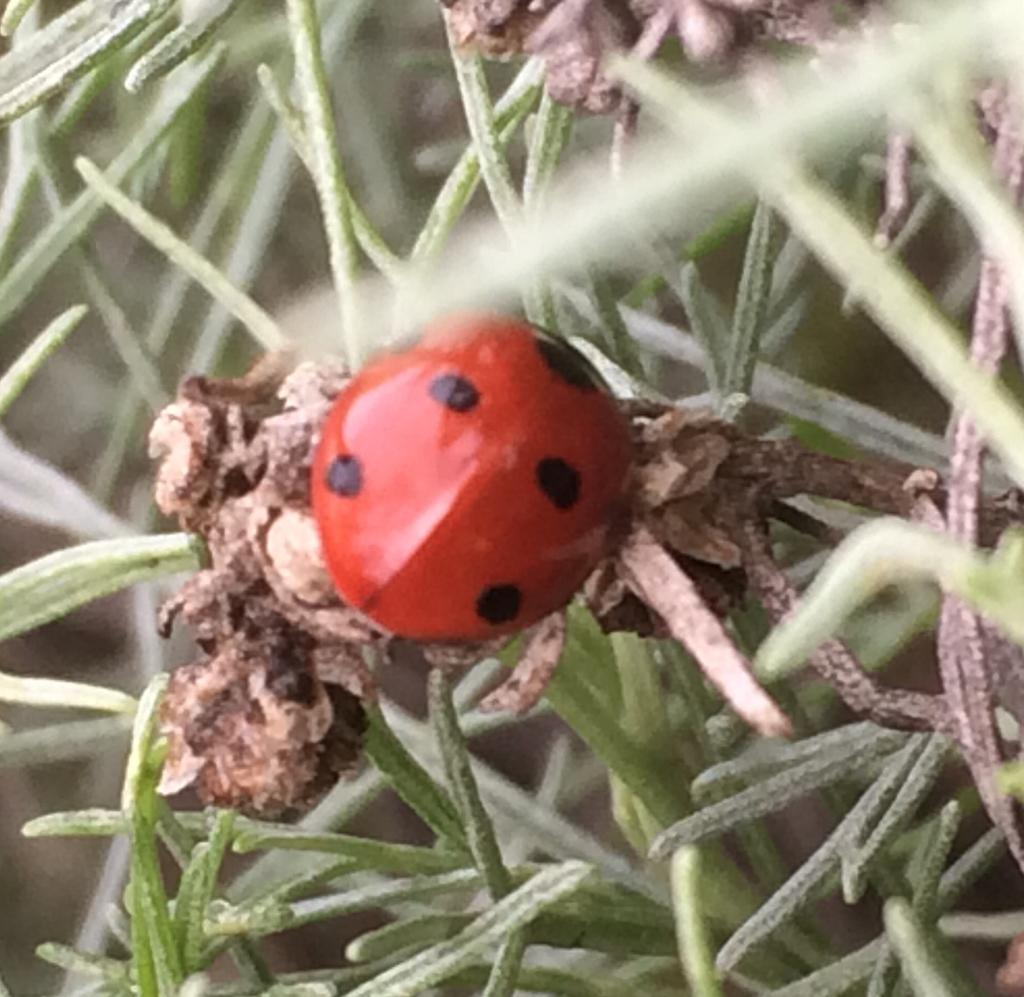ladybug: (311, 309, 646, 649)
